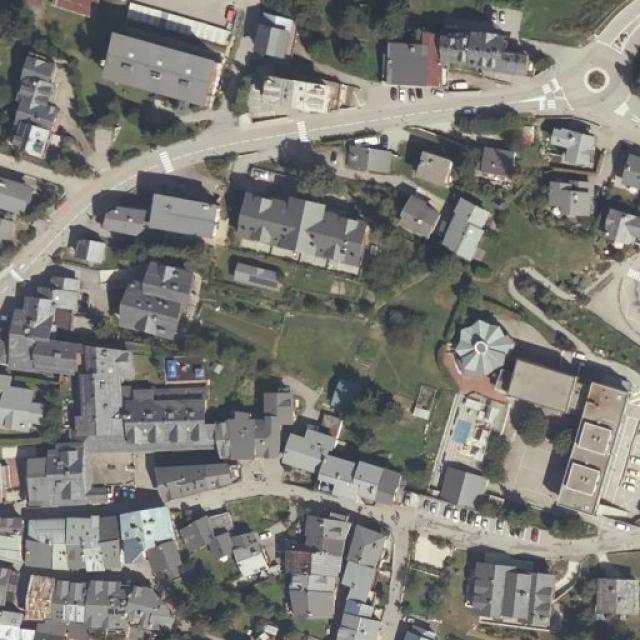immeuble: (239, 190, 378, 272), (97, 26, 214, 111), (560, 385, 636, 511), (66, 346, 138, 447), (0, 515, 125, 570), (114, 383, 209, 448), (12, 46, 66, 156), (116, 259, 192, 337), (219, 396, 302, 467), (4, 305, 85, 377), (464, 560, 547, 630), (0, 572, 89, 636), (425, 24, 529, 74), (86, 583, 172, 640), (256, 74, 351, 123), (291, 514, 333, 623), (35, 424, 88, 510), (111, 516, 186, 572), (148, 191, 225, 244), (0, 379, 49, 453), (499, 368, 582, 411), (18, 265, 84, 319), (350, 526, 381, 640), (364, 43, 439, 89), (249, 7, 303, 59), (288, 422, 330, 482), (183, 517, 237, 560), (311, 451, 360, 498), (93, 195, 145, 236), (355, 464, 401, 510), (0, 178, 30, 248), (439, 471, 492, 509)
maison: (441, 196, 487, 264), (542, 117, 594, 166), (231, 534, 280, 586), (590, 572, 640, 622), (537, 180, 597, 220), (342, 134, 397, 177), (393, 192, 439, 242), (411, 142, 460, 184), (474, 145, 521, 185), (600, 198, 640, 245), (614, 152, 640, 204)
piscine: (448, 416, 483, 450)
